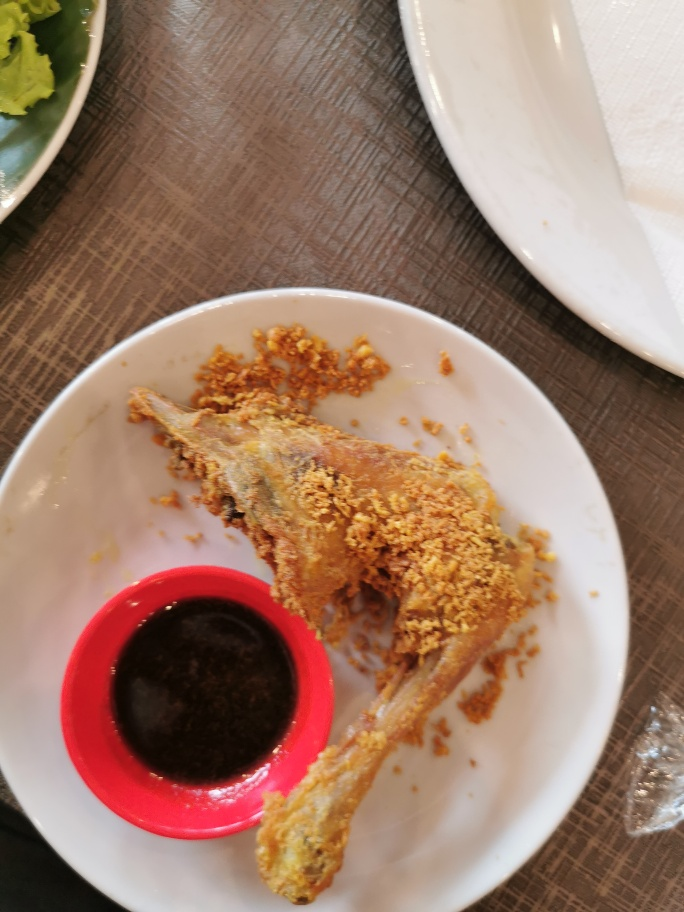ayam goreng: (122, 384, 537, 905)
kecap: (60, 566, 331, 840)
